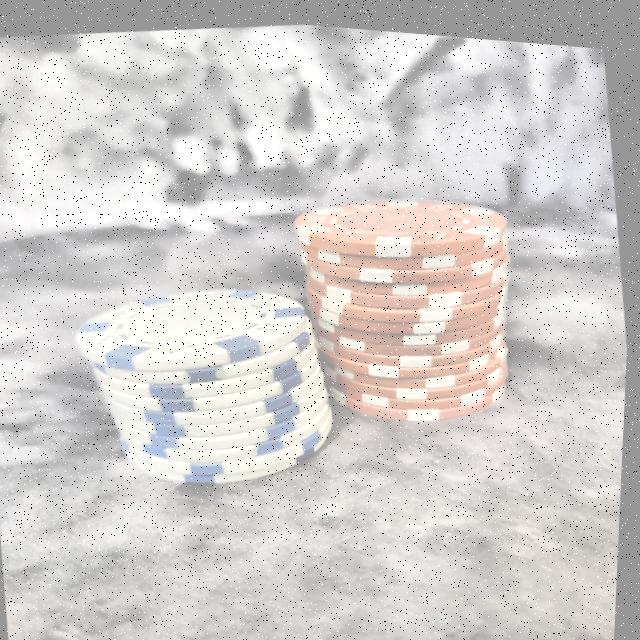Chip: (270, 138, 555, 455), (51, 233, 358, 521)
